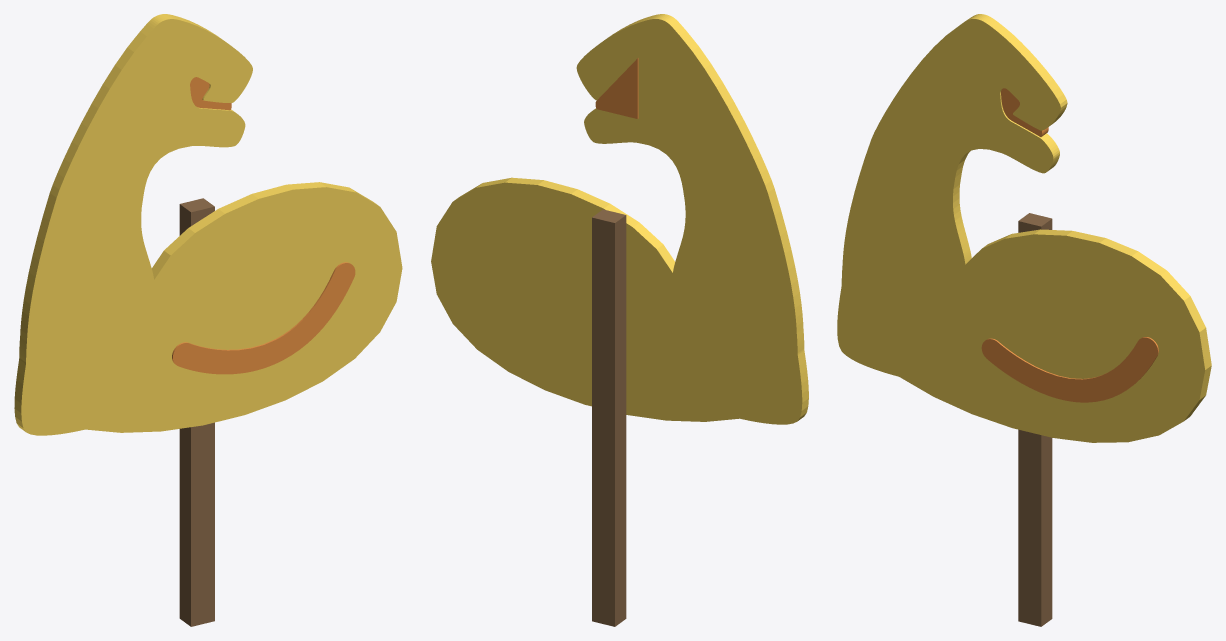
The model's file is bras.glb.
The picture shows the model from 3 angles, left to right: view 1: azimuth 30°, elevation 25°; view 2: azimuth 150°, elevation 25°; view 3: azimuth 330°, elevation 25°; orthographic projection. The views are drawn at different scales.
Size of the model in its own units: 0.962 by 1.5 by 0.093.
